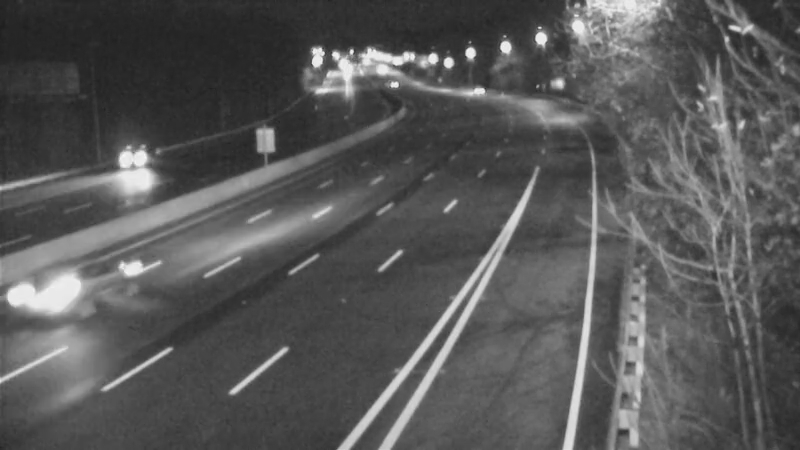vehicle: (36, 241, 116, 321), (83, 124, 163, 204), (366, 57, 416, 107), (444, 63, 494, 113)
